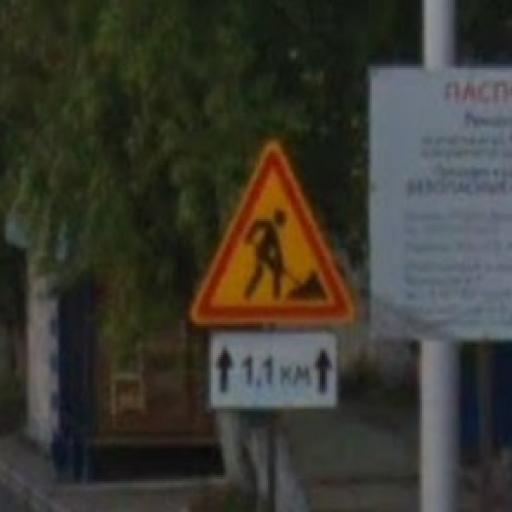traffic_sign: (192, 144, 358, 327)
